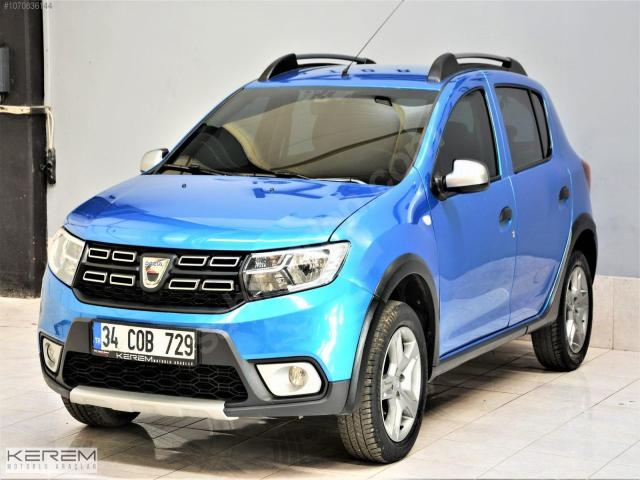plaka: (93, 322, 195, 361)
